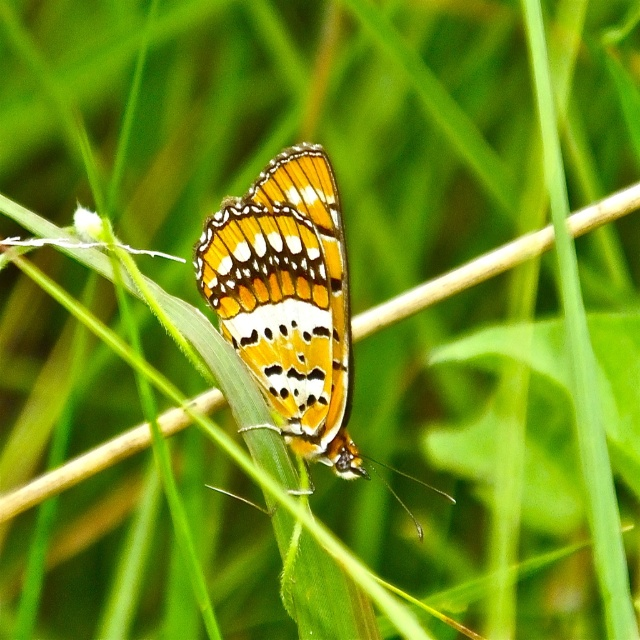Butterfly: (188, 141, 457, 546)
